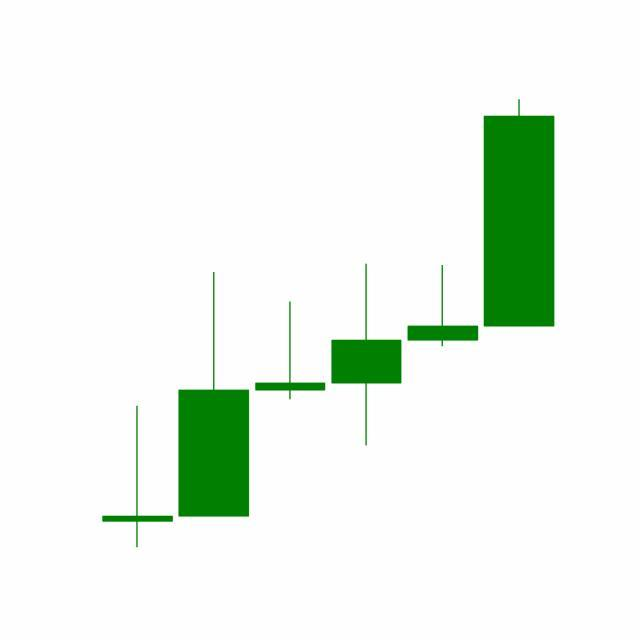Gravestone Doji: (404, 264, 482, 349)
